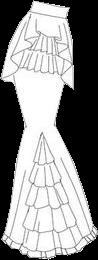Hemline: (0, 30, 75, 89), (0, 229, 97, 259)
Waistline: (27, 10, 68, 19), (31, 0, 70, 9)
